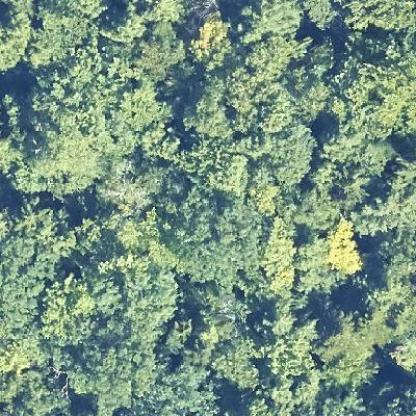tree-top: (2, 99, 109, 197), (90, 252, 182, 336), (335, 57, 415, 144), (31, 275, 96, 348), (261, 118, 321, 192), (254, 214, 304, 298), (178, 73, 236, 141), (129, 21, 185, 81), (184, 11, 238, 73), (321, 213, 370, 279), (242, 29, 296, 83)
